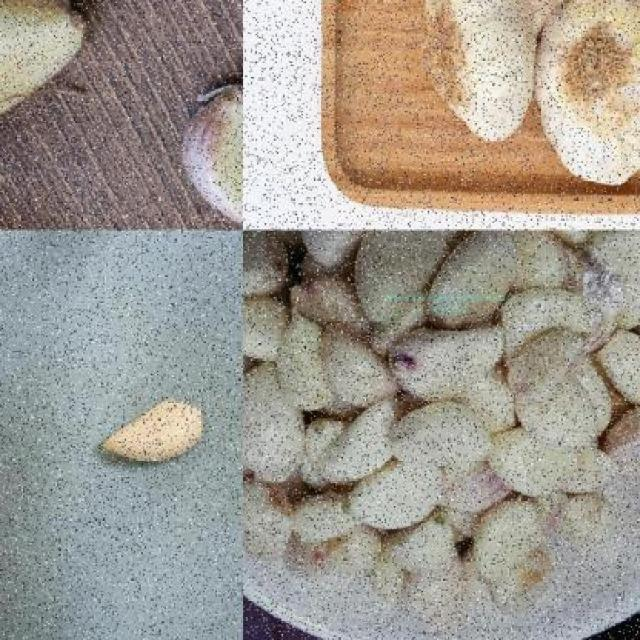garlic: (242, 230, 640, 635), (533, 0, 639, 191), (418, 0, 538, 145), (0, 0, 88, 128), (174, 78, 242, 230), (382, 320, 510, 396), (387, 398, 502, 476), (427, 230, 521, 324), (100, 394, 206, 466)
